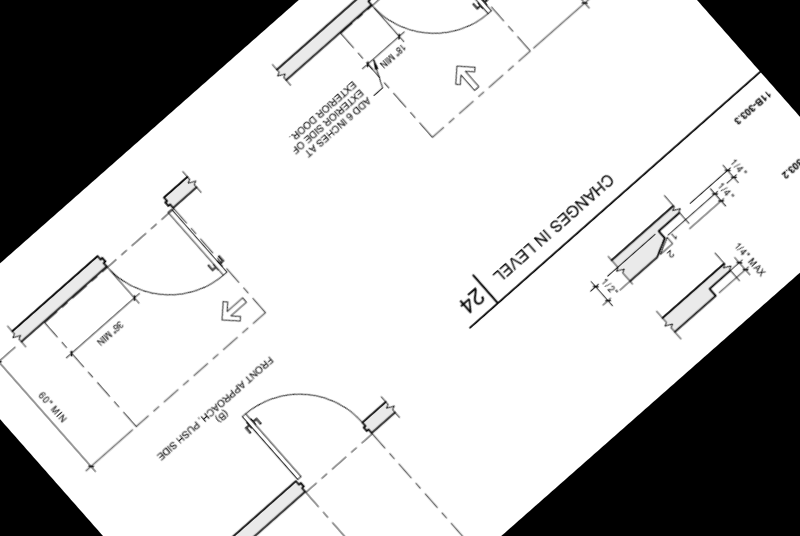door: (235, 355, 375, 496), (99, 201, 230, 333), (365, 0, 496, 72)
